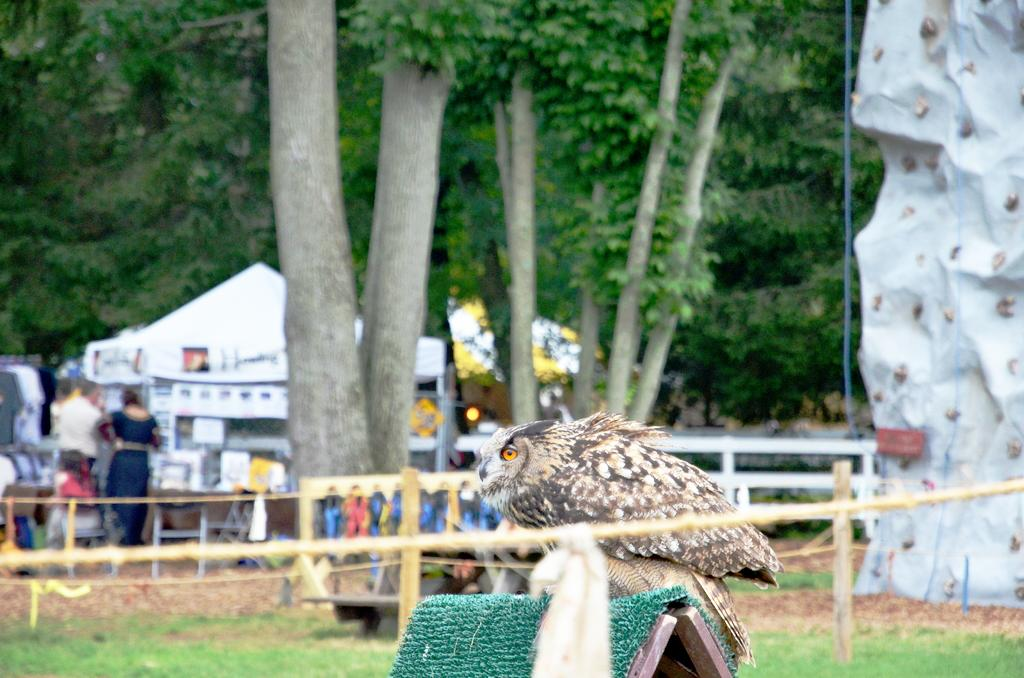Owl: (474, 417, 768, 666)
